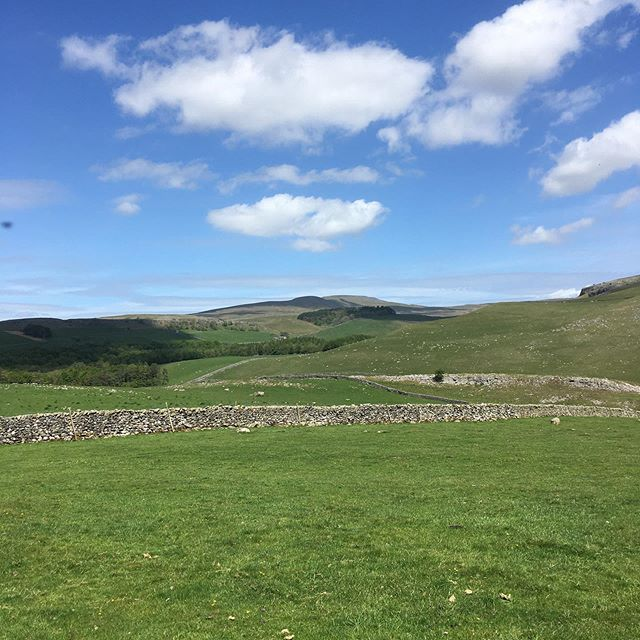grass: (1, 308, 640, 640)
sky: (1, 1, 629, 290)
